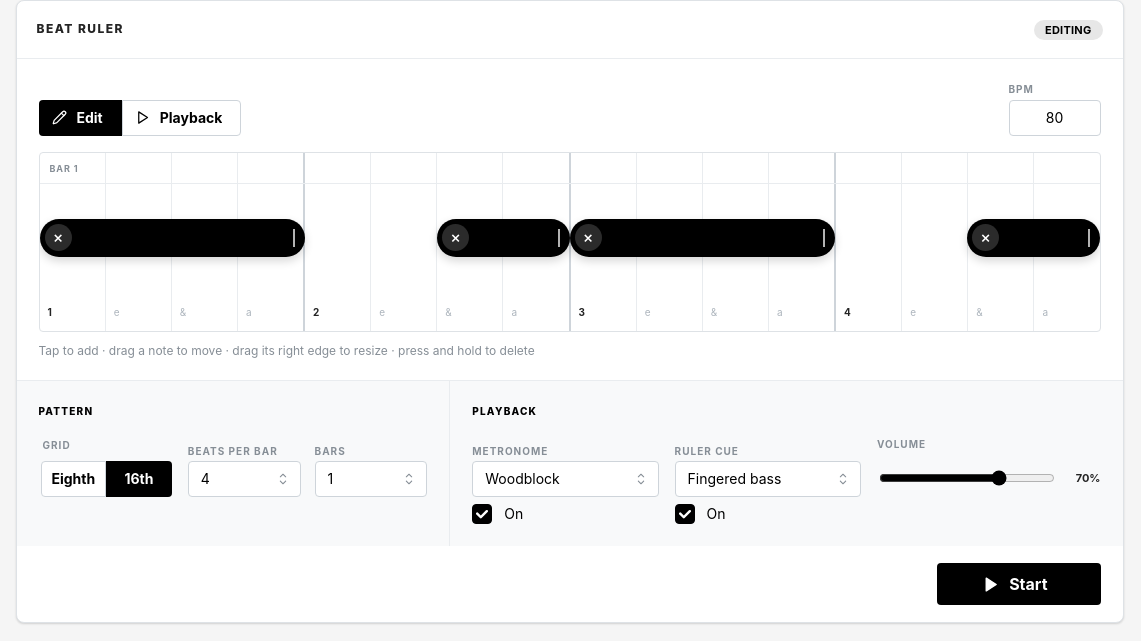
Test: Beat Ruler UI › adds with left click and removes with right click
Click the button named "Add note at 2": (337, 242) [303,153,370,331]
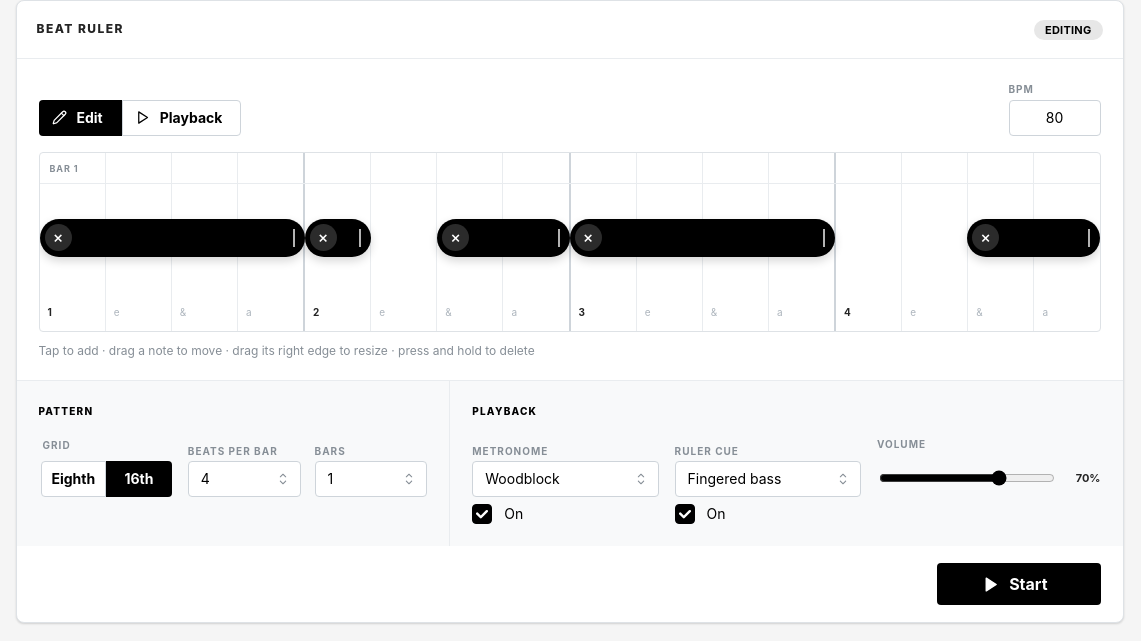
Right-click the button with test id "ruler-note-note-15": (338, 238) [304,219,371,257]
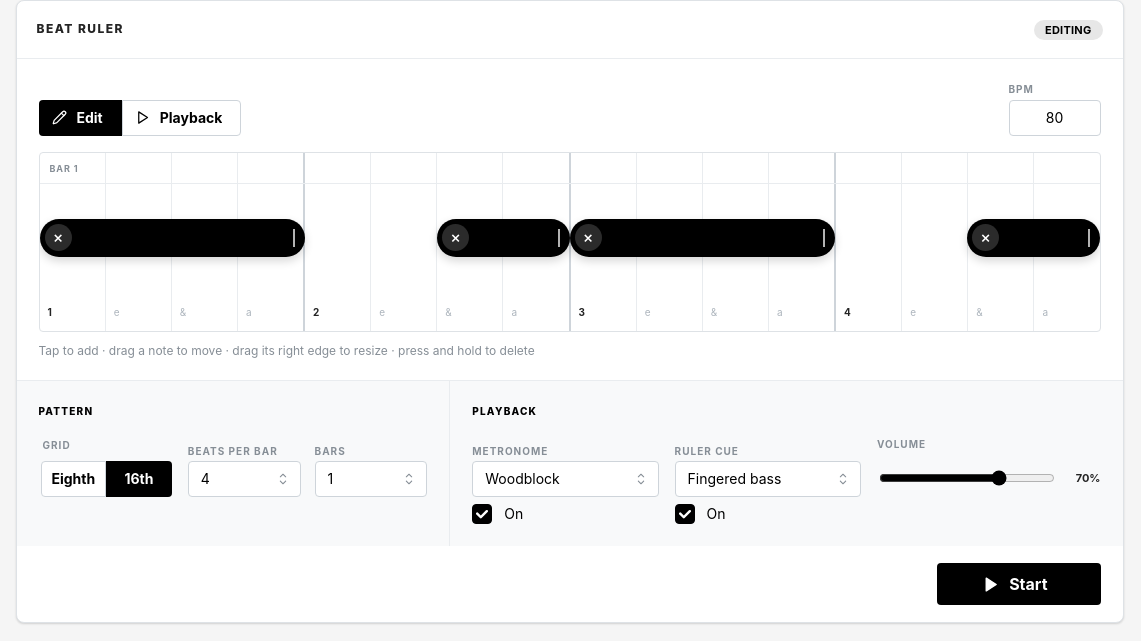
Expected: the button with test id "ruler-note-note-15" is gone
